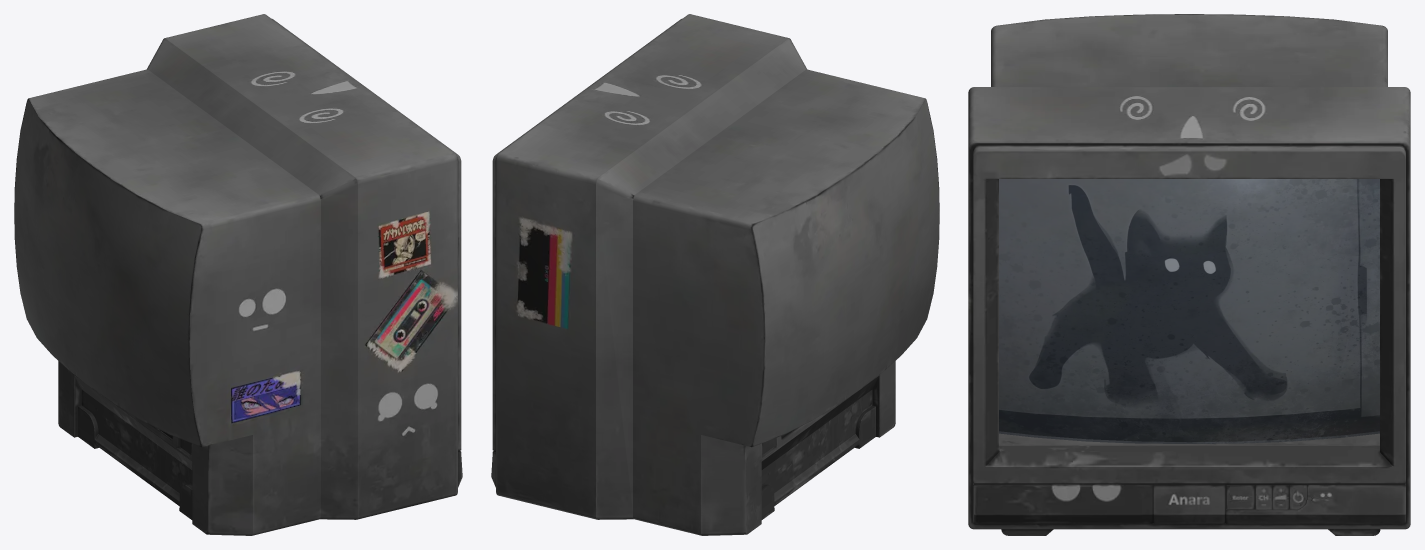
The model's file is retro_tv.glb.
The picture shows the model from 3 angles, left to right: view 1: azimuth 30°, elevation 25°; view 2: azimuth 150°, elevation 25°; view 3: azimuth 270°, elevation 25°; orthographic projection. The views are drawn at different scales.
Size of the model in its own units: 0.6028 by 0.7109 by 0.7207.
3 materials, 3 textured.
